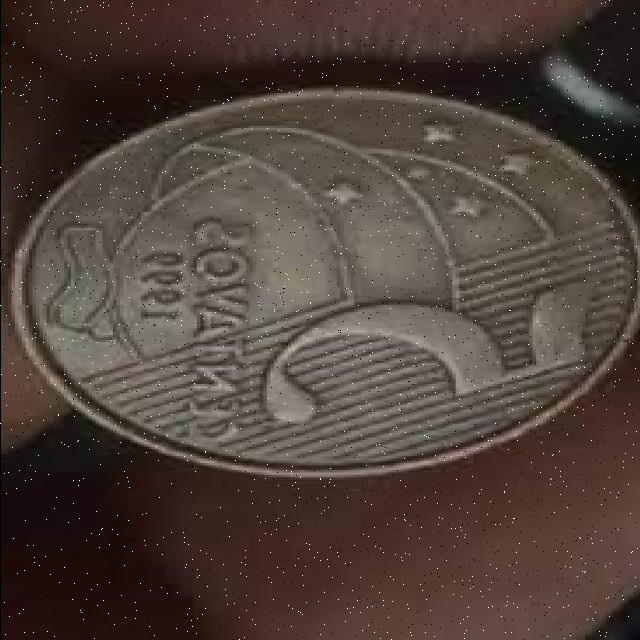5 cent: (26, 88, 638, 479)
